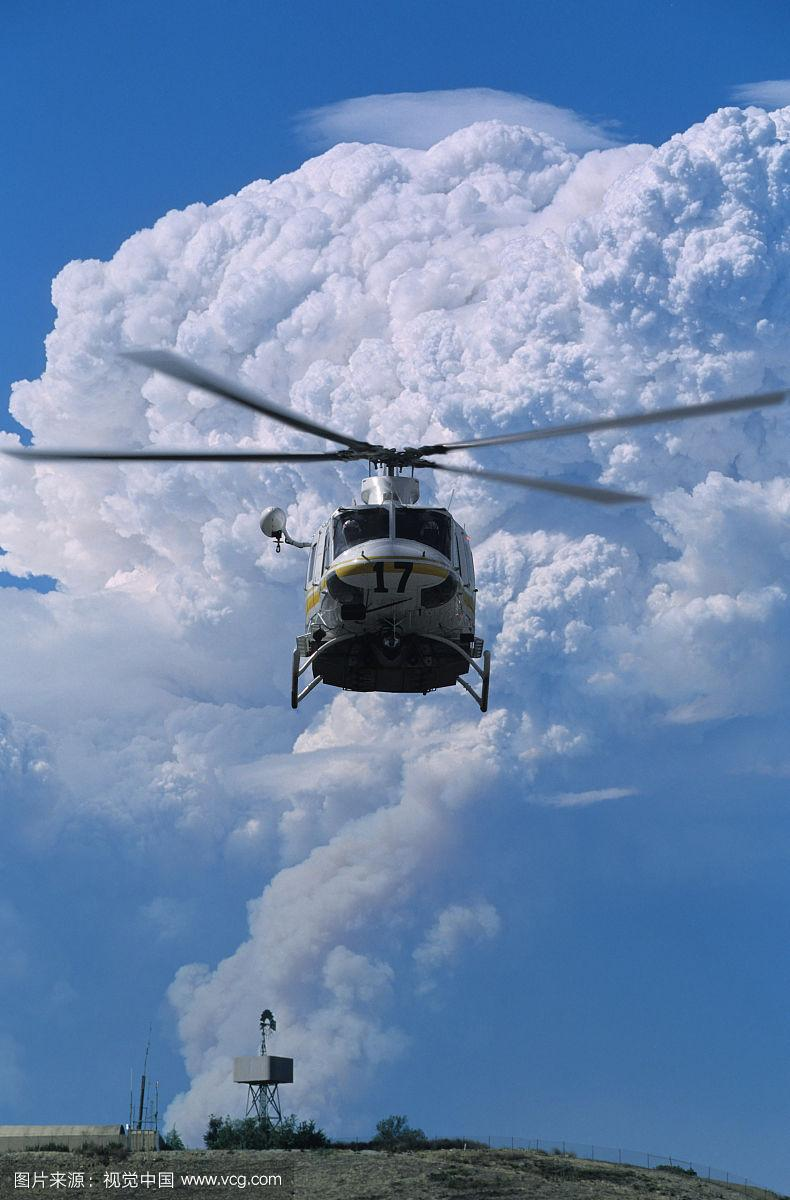airplane: (1, 325, 782, 696)
